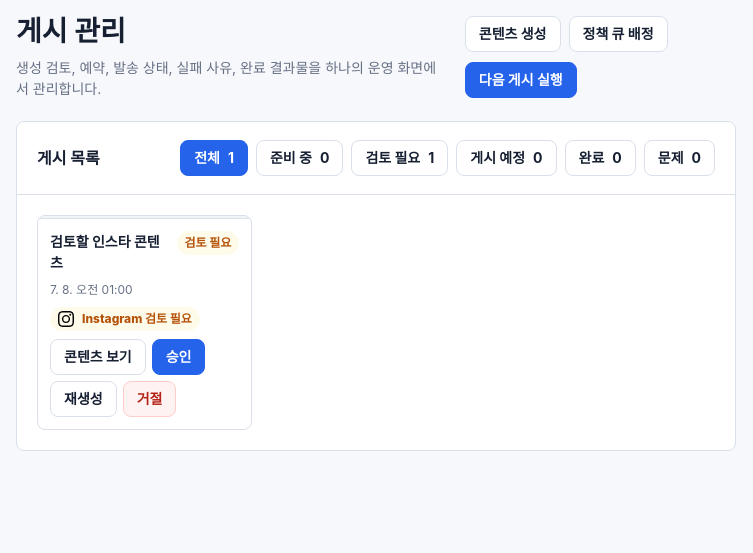
Test: PublishQueuePage › does not report a saved group review as failed when only refresh fails
The width and height of the screenshot is (753, 553).
Click the button "승인": (179, 357) [152,339,206,375]
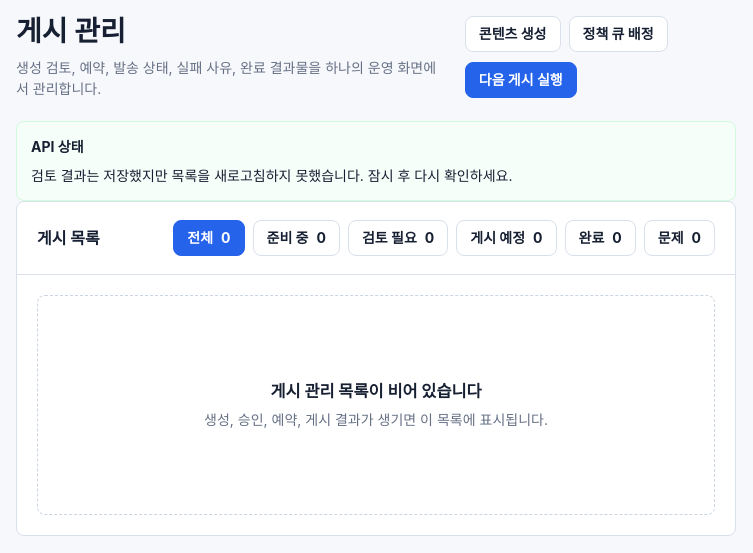
Check: the text "검토 결과는 저장했지만 목록을 새로고침하지 못했습니다. 잠시 후 다시 확인하세요." is shown, box [31,167,512,184]
